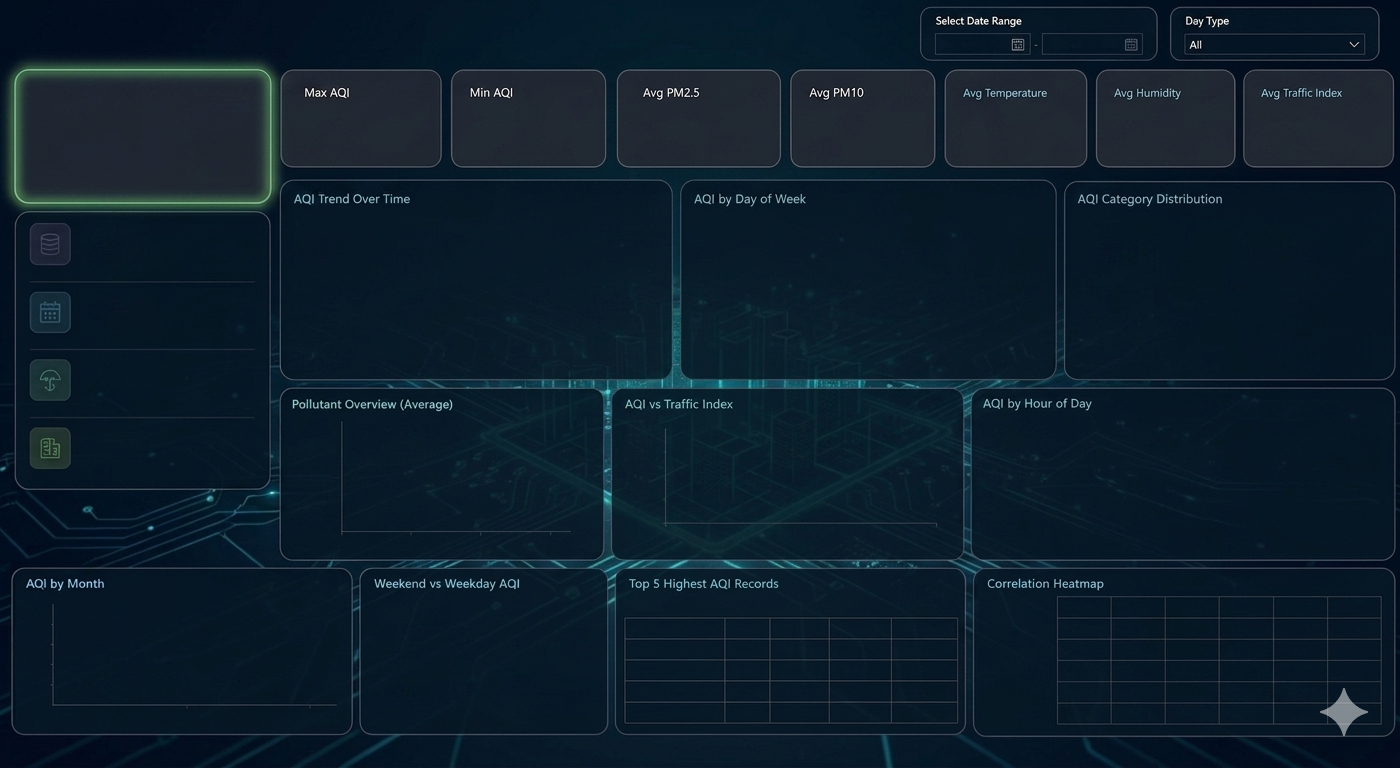

What the dashboard file says about the page in this screenshot:
{"tool":"powerbi","page":{"name":"Page 1","canvas":[1920,1080],"ordinal":0},"visuals":[{"type":"columnChart","title":"AQI by Day of Week","fields":{"Y":["urban_data.Avg AQI"],"Category":["urban_data.Day Name"]},"box":[847.2,207.4,513.3,265.7],"z":0},{"type":"lineChart","title":"AQI Trend Over Time","fields":{"Category":["urban_data.time.Variation.Date Hierarchy.Year","urban_data.time.Variation.Date Hierarchy.Quarter","urban_data.time.Variation.Date Hierarchy.Month","urban_data.time.Variation.Date Hierarchy.Day"],"Y":["Sum(urban_data.aqi)"]},"box":[354.3,208.2,452,263.5],"z":1000},{"type":"donutChart","title":"AQI Category Contribution","fields":{"Category":["urban_data.AQI Category"],"Y":["CountNonNull(urban_data.aqi)"]},"box":[1401.4,207.4,481.5,263.5],"z":2000},{"type":"card","title":"Average AQI","fields":{"Values":["urban_data.Avg AQI"]},"box":[15.9,63.6,302.1,220.3],"z":3000},{"type":"clusteredBarChart","title":"Pollutant Overview (Average)","fields":{"Category":["urban_data.pollutants"],"Y":["Avg(urban_data.value)"]},"box":[351.3,492.9,452,265.7],"z":4000},{"type":"scatterChart","title":"AQI VS Traffic Index","fields":{"X":["urban_data.traffic_index"],"Y":["urban_data.aqi"]},"box":[826,492.9,486.1,265.7],"z":5000},{"type":"lineChart","title":"AQI by Hour Of Day","fields":{"Y":["Avg(urban_data.aqi)"],"Category":["urban_data.hour"]},"box":[1342.3,492.9,540.6,265.7],"z":6000},{"type":"donutChart","title":"AQI by Day of Week","fields":{"Category":["urban_data.day_type"],"Y":["CountNonNull(urban_data.is_weekend)"]},"box":[874.5,776.8,438.4,277.1],"z":7000},{"type":"lineChart","title":"AQI by Month","fields":{"Y":["Avg(urban_data.aqi)"],"Category":["urban_data.Month Name"]},"box":[352.1,776.8,495.1,277.1],"z":8000},{"type":"cardVisual","title":"AQI by Day of Week","fields":{"Data":["urban_data.Max AQI","urban_data.Min AQI","urban_data.Avg PM2.5","urban_data.Avg PM10","urban_data.Avg Temp","urban_data.Avg Humidity","urban_data.Avg Traffic"]},"box":[354.3,63.6,1528.6,129.5],"z":9000},{"type":"tableEx","title":"Top 10 Highest AQI Records","fields":{"Values":["urban_data.time","urban_data.aqi","urban_data.pm2_5","urban_data.pm10","urban_data.traffic_index"]},"box":[1349.2,776.8,533.8,277.1],"z":10000},{"type":"card","title":"Total Records","fields":{"Values":["urban_data.Total Records"]},"box":[15.9,302.1,302.1,93.1],"z":11000},{"type":"advancedSlicerVisual","title":"Day Type","fields":{"Values":["urban_data.day_type"]},"box":[18.2,608.7,302.1,168.1],"z":12000},{"type":"card","title":"Weekday Records","fields":{"Values":["urban_data.Weekday Records"]},"box":[15.9,402,302.1,93.1],"z":13000},{"type":"card","title":"Weekend Records","fields":{"Values":["urban_data.Weekend Records"]},"box":[15.9,502,302.1,93.1],"z":14000},{"type":"image","box":[31.8,302.1,77.2,84],"z":15000},{"type":"image","box":[20.4,415.6,68.1,68.1],"z":16000},{"type":"image","box":[6.8,502,93.1,77.2],"z":17000},{"type":"image","box":[6.8,63.6,124.9,93.1],"z":18000},{"type":"image","box":[1562.7,95.4,99.9,68.1],"z":19000},{"type":"image","box":[486.1,90.9,75,75],"z":20000},{"type":"image","box":[692.7,90.9,93.1,75],"z":21000},{"type":"image","box":[901.7,90.9,86.3,79.5],"z":22000},{"type":"image","box":[1135.7,88.6,90.9,75],"z":23000},{"type":"image","box":[1342.3,95.4,90.9,70.4],"z":24000},{"type":"image","box":[1785.2,81.8,97.7,95.4],"z":25000},{"type":"textbox","box":[715.5,11.4,488.3,70.4],"z":26000},{"type":"listSlicer","title":"Timestamp","fields":{"Values":["urban_data.time"]},"box":[18.2,797.2,302.1,256.7],"z":26001}]}

Visuals, with their boxes on the page's 1920x1080 design canvas (x1, y1, x2, y2). These are canvas units, not pixel positions in the 1400x768 screenshot, which may show the page scaled, cropped or inside an application window:
"AQI by Day of Week" columnChart: [left=847, top=207, right=1360, bottom=473]
"AQI Trend Over Time" lineChart: [left=354, top=208, right=806, bottom=472]
"AQI Category Contribution" donutChart: [left=1401, top=207, right=1883, bottom=471]
"Average AQI" card: [left=16, top=64, right=318, bottom=284]
"Pollutant Overview (Average)" clusteredBarChart: [left=351, top=493, right=803, bottom=759]
"AQI VS Traffic Index" scatterChart: [left=826, top=493, right=1312, bottom=759]
"AQI by Hour Of Day" lineChart: [left=1342, top=493, right=1883, bottom=759]
"AQI by Day of Week" donutChart: [left=874, top=777, right=1313, bottom=1054]
"AQI by Month" lineChart: [left=352, top=777, right=847, bottom=1054]
"AQI by Day of Week" cardVisual: [left=354, top=64, right=1883, bottom=193]
"Top 10 Highest AQI Records" tableEx: [left=1349, top=777, right=1883, bottom=1054]
"Total Records" card: [left=16, top=302, right=318, bottom=395]
"Day Type" advancedSlicerVisual: [left=18, top=609, right=320, bottom=777]
"Weekday Records" card: [left=16, top=402, right=318, bottom=495]
"Weekend Records" card: [left=16, top=502, right=318, bottom=595]
image: [left=32, top=302, right=109, bottom=386]
image: [left=20, top=416, right=88, bottom=484]
image: [left=7, top=502, right=100, bottom=579]
image: [left=7, top=64, right=132, bottom=157]
image: [left=1563, top=95, right=1663, bottom=164]
image: [left=486, top=91, right=561, bottom=166]
image: [left=693, top=91, right=786, bottom=166]
image: [left=902, top=91, right=988, bottom=170]
image: [left=1136, top=89, right=1227, bottom=164]
image: [left=1342, top=95, right=1433, bottom=166]
image: [left=1785, top=82, right=1883, bottom=177]
textbox: [left=716, top=11, right=1204, bottom=82]
"Timestamp" listSlicer: [left=18, top=797, right=320, bottom=1054]
